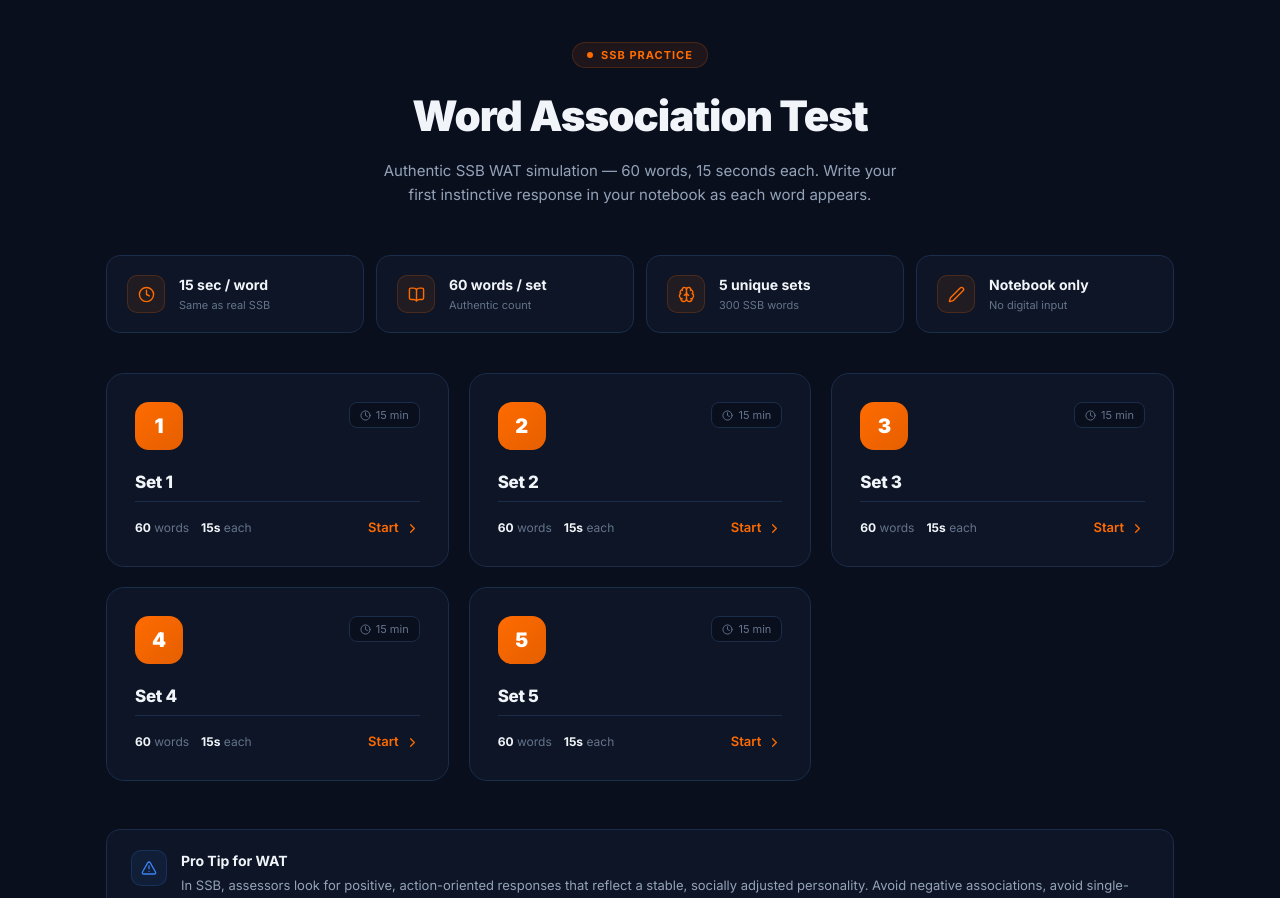
Test: Practice page — instructions screen › transitions to instructions when a set card is clicked
This screenshot has width=1280, height=898.
Step 1. Click the heading "Set 1" → (154, 482), box x1=135 y1=472 x2=173 y2=492
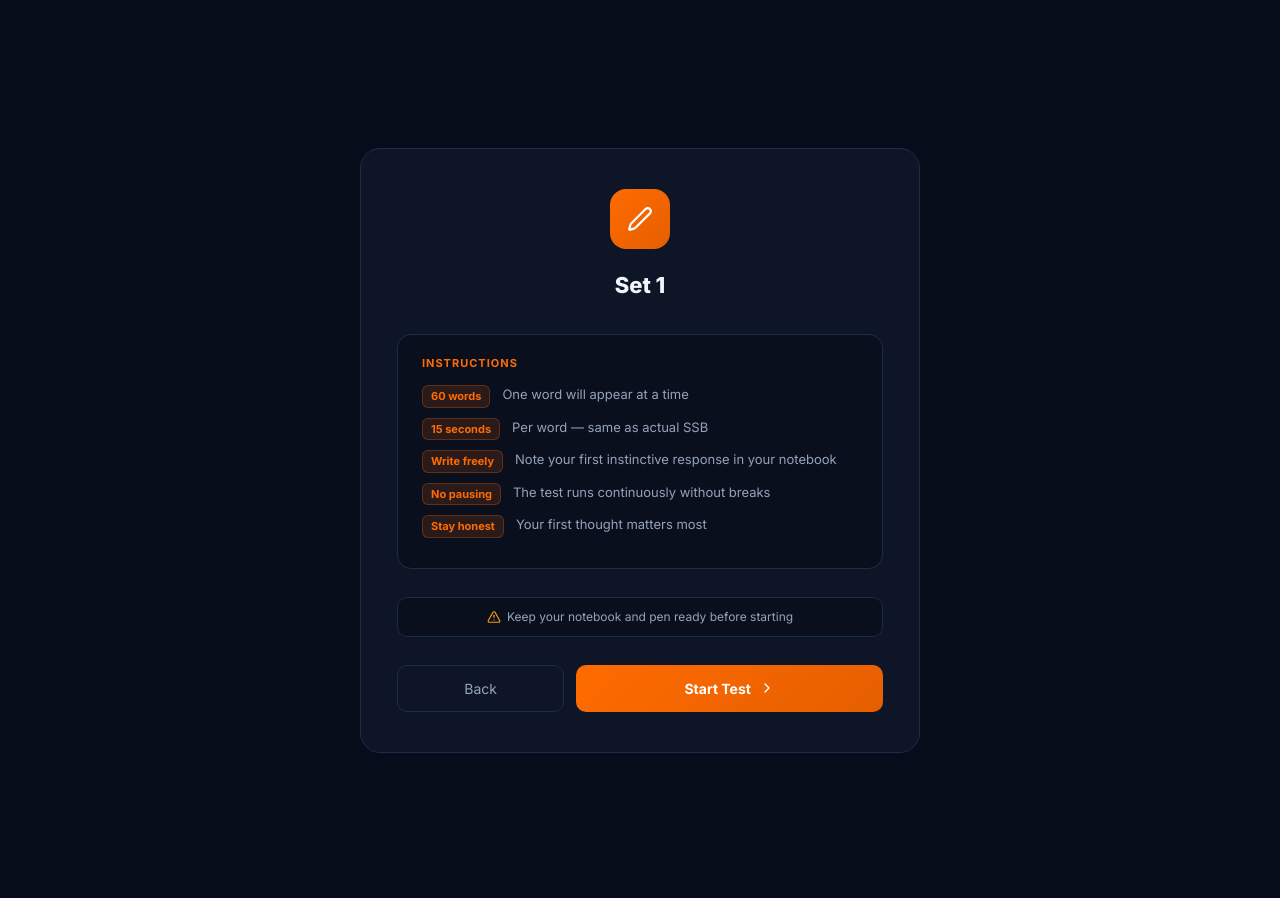
Expected: the text "Instructions" is shown, x1=422 y1=356 x2=518 y2=370
